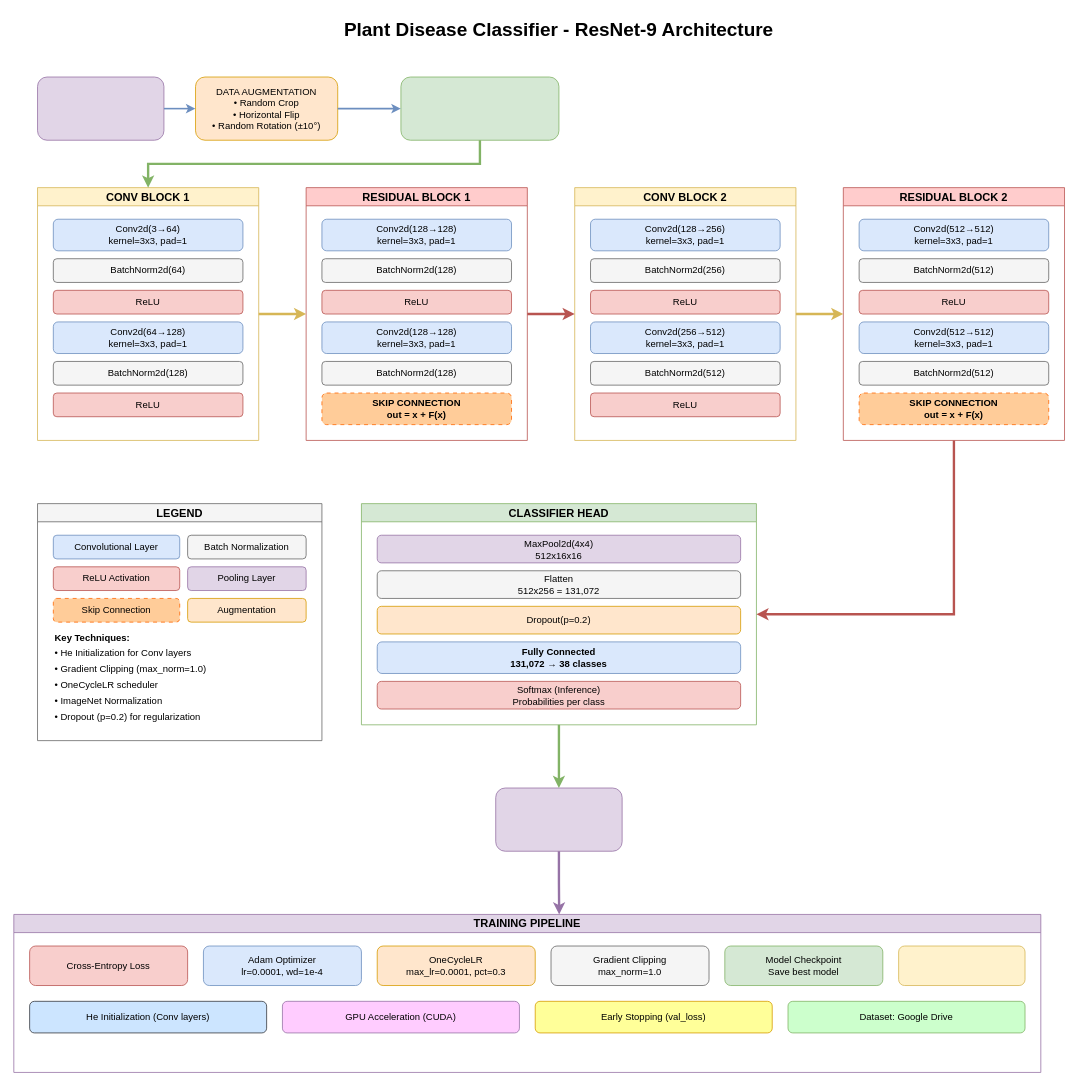
The diagram is 1078 pixels wide and 1086 high, and some of its shapes have lost their labels. The centre of each missing label's shape, as x and y in pixels:
"INPUT IMAGE RGB 3x256x256" belongs at pixel 100 108.
"Metrics Tracking Loss + Accuracy" belongs at pixel 961 965.
"NORMALIZATION ImageNet Stats Mean: [0.485,0.456,0.406] Std: [0.229,0.224,0.225]" belongs at pixel 479 108.
"OUTPUT 38 Disease Classes" belongs at pixel 558 819.
